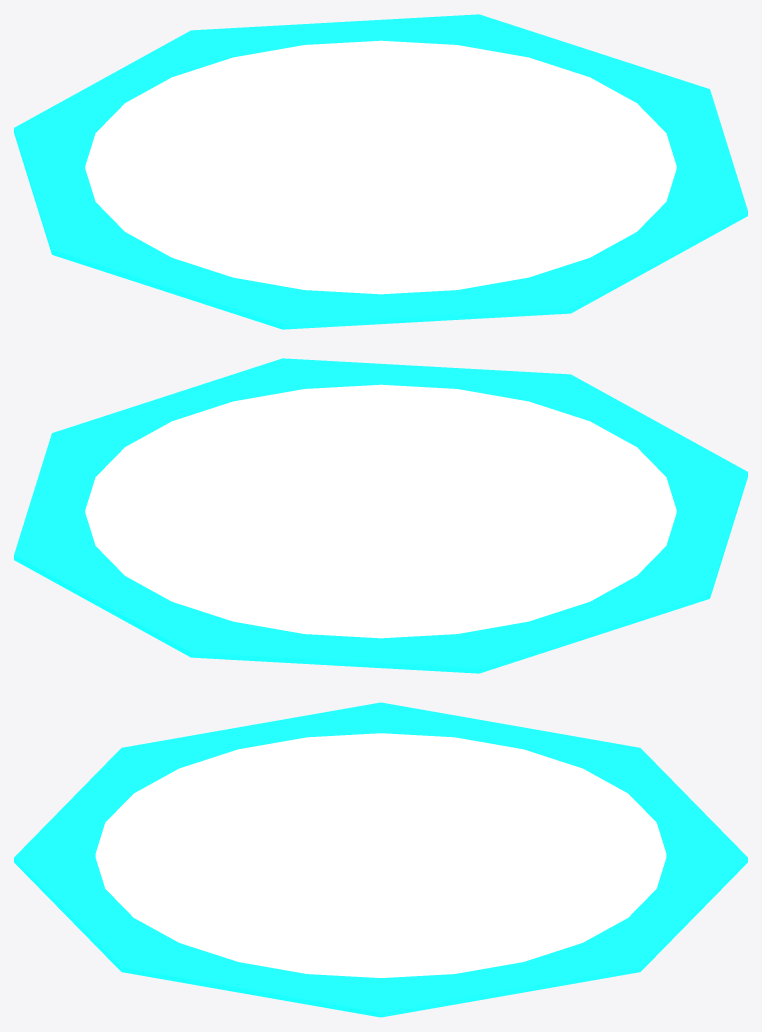
Rendered from landing_shockwave.glb.
3 views of the same model, one above another, from view 1: azimuth 30°, elevation 25°; view 2: azimuth 150°, elevation 25°; view 3: azimuth 270°, elevation 25° (orthographic). The views are drawn at different scales.
Visible parts, largest first — view 1: Shockwave_InnerRing, Shockwave_OuterRim, Shockwave_CoreDisc; view 2: Shockwave_InnerRing, Shockwave_OuterRim, Shockwave_CoreDisc; view 3: Shockwave_InnerRing, Shockwave_OuterRim, Shockwave_CoreDisc.
Part boxes in pixels (x1,y1,x2,y2): Shockwave_InnerRing: [85, 40, 676, 294]; Shockwave_OuterRim: [14, 14, 747, 329]; Shockwave_CoreDisc: [255, 108, 506, 218]; Shockwave_InnerRing: [85, 384, 676, 638]; Shockwave_OuterRim: [14, 358, 747, 673]; Shockwave_CoreDisc: [255, 452, 506, 562]; Shockwave_InnerRing: [95, 733, 666, 977]; Shockwave_OuterRim: [14, 702, 747, 1017]; Shockwave_CoreDisc: [258, 798, 503, 905].
Size of the model in its own units: 2.7 by 0.05 by 2.7.
